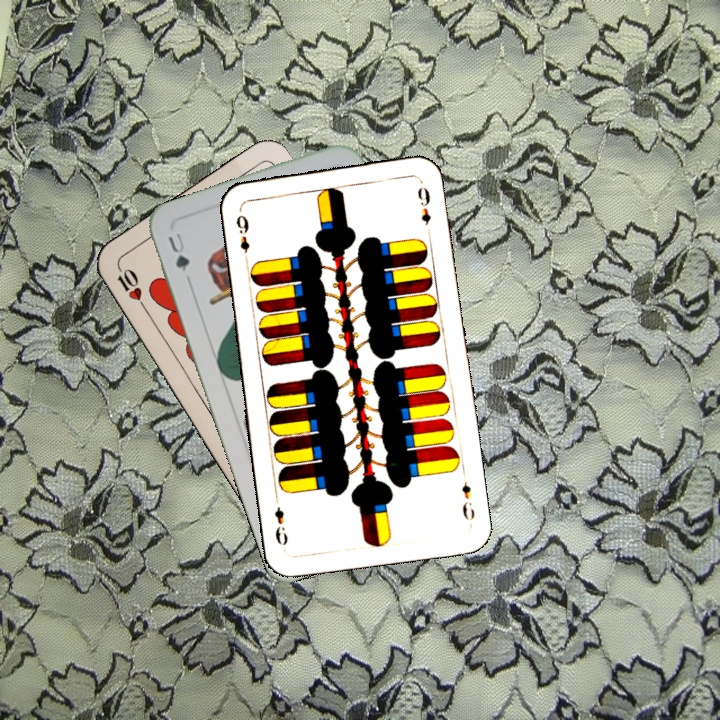E9: (232, 211, 253, 264), (457, 478, 477, 527)
GU: (163, 228, 192, 274)
H10: (112, 260, 150, 313)
